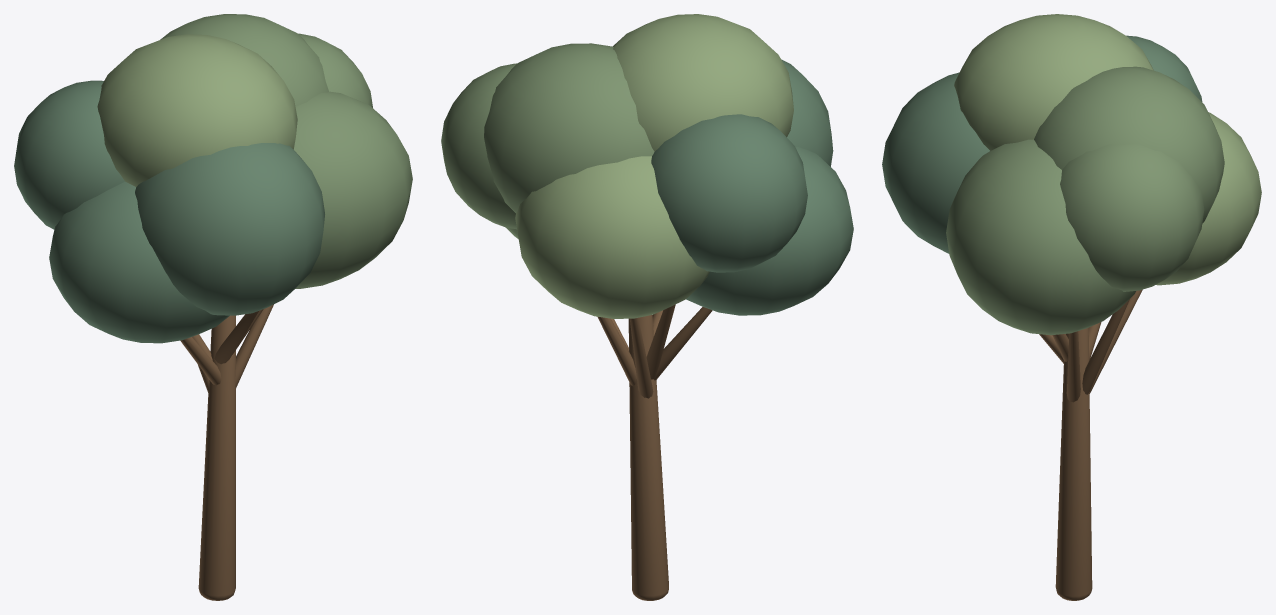
The model's file is KKTC_OliveTree.fbx.
The picture shows the model from 3 angles, left to right: view 1: azimuth 30°, elevation 25°; view 2: azimuth 150°, elevation 25°; view 3: azimuth 270°, elevation 25°; orthographic projection. The views are drawn at different scales.
Parts seen in each view (by area): view 1: TreeVolume_YY_oliveDark, TreeVolume_YY_oliveMid, TreeVolume_YY_oliveLight, TreeVolume_YY_oliveBark; view 2: TreeVolume_YY_oliveLight, TreeVolume_YY_oliveDark, TreeVolume_YY_oliveMid, TreeVolume_YY_oliveBark; view 3: TreeVolume_YY_oliveMid, TreeVolume_YY_oliveLight, TreeVolume_YY_oliveDark, TreeVolume_YY_oliveBark.
Boxes of the visible parts, x1,y1,x2,y2 form: TreeVolume_YY_oliveDark: [14, 80, 324, 343]; TreeVolume_YY_oliveMid: [160, 14, 412, 288]; TreeVolume_YY_oliveLight: [97, 34, 297, 186]; TreeVolume_YY_oliveBark: [180, 304, 273, 600]; TreeVolume_YY_oliveLight: [515, 14, 793, 318]; TreeVolume_YY_oliveDark: [651, 59, 853, 315]; TreeVolume_YY_oliveMid: [441, 43, 654, 238]; TreeVolume_YY_oliveBark: [597, 304, 712, 600]; TreeVolume_YY_oliveMid: [946, 66, 1224, 335]; TreeVolume_YY_oliveLight: [954, 14, 1261, 285]; TreeVolume_YY_oliveDark: [882, 35, 1202, 253]; TreeVolume_YY_oliveBark: [1039, 289, 1142, 600].
Bounding box in the file's own units: 306 × 480 × 297.
